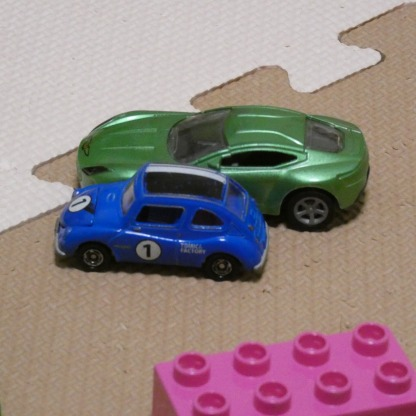car: (79, 106, 369, 228), (53, 166, 276, 282)
